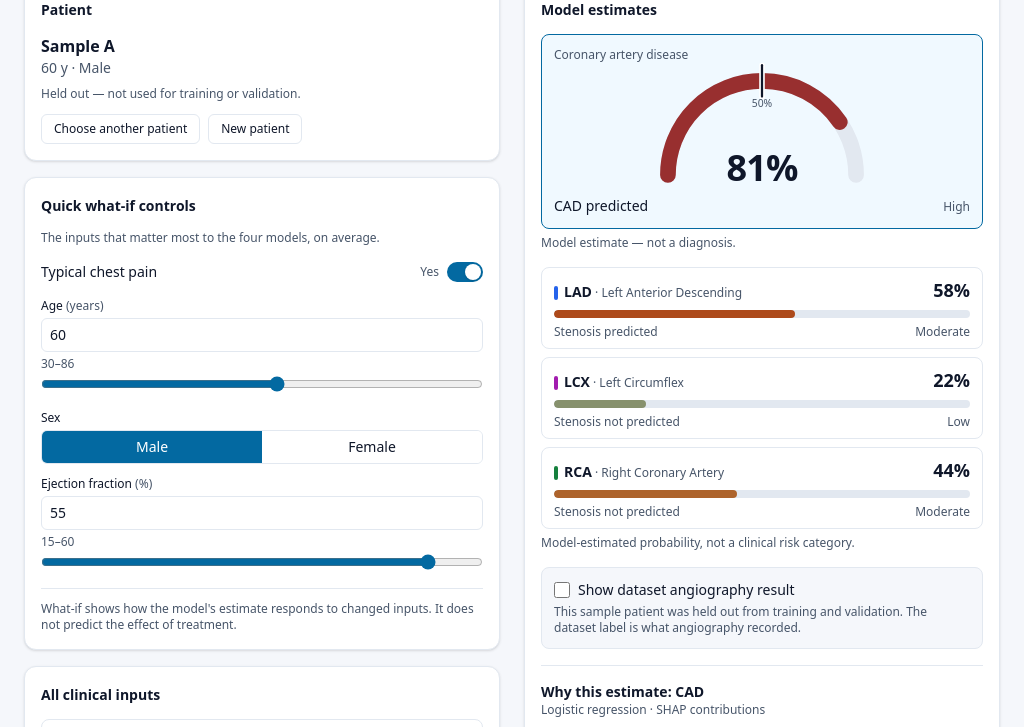
what-if explorer end to end (T8.1) › shows how every estimate changed after a quick-control edit, then resets without a request (UF-3)
This screenshot has width=1024, height=727.
(page scrolled)
Check: the button "Coronary artery disease 81% CAD predicted High" is shown, box x1=541 y1=34 x2=983 y2=229
Check: the text "Modified" is not shown
Step 1. Set the slider named "Age slider" to "72" → (368,384), box x1=41 y1=376 x2=483 y2=392
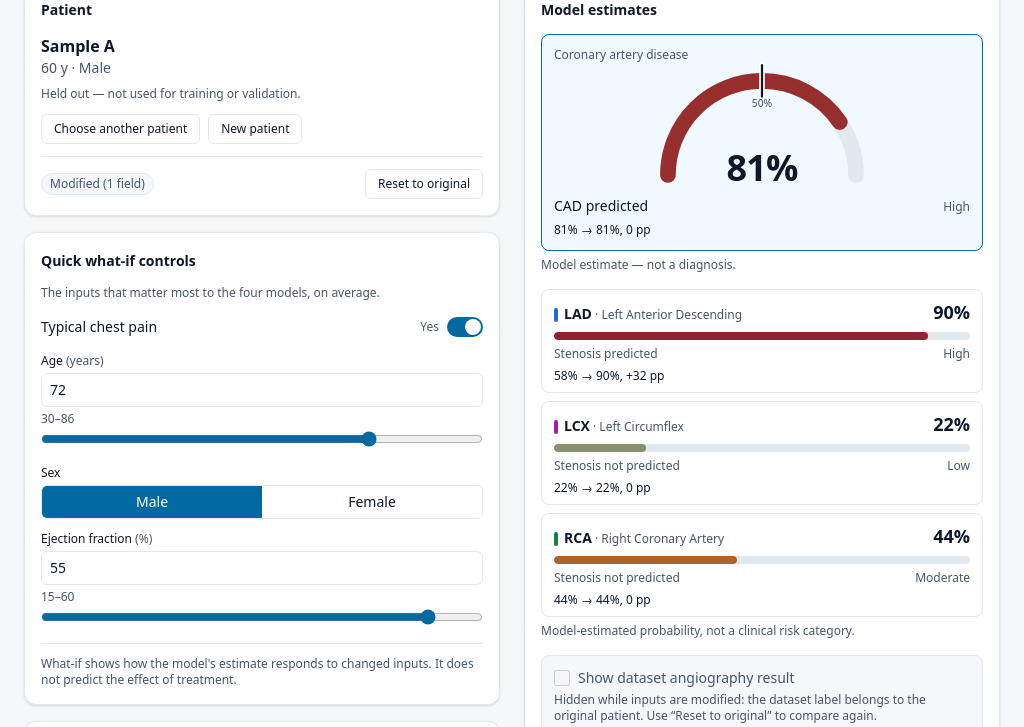
Check: the number field labelled "Age (years)" holds "72", box x1=41 y1=373 x2=483 y2=407
Check: the text "Modified (1 field)" is shown, box x1=41 y1=173 x2=154 y2=195
Check: the text "58% → 90%, +32 pp" is shown, box x1=554 y1=367 x2=664 y2=384
Step 2. Click the button "Reset to original" → (424,184), box x1=365 y1=169 x2=483 y2=199
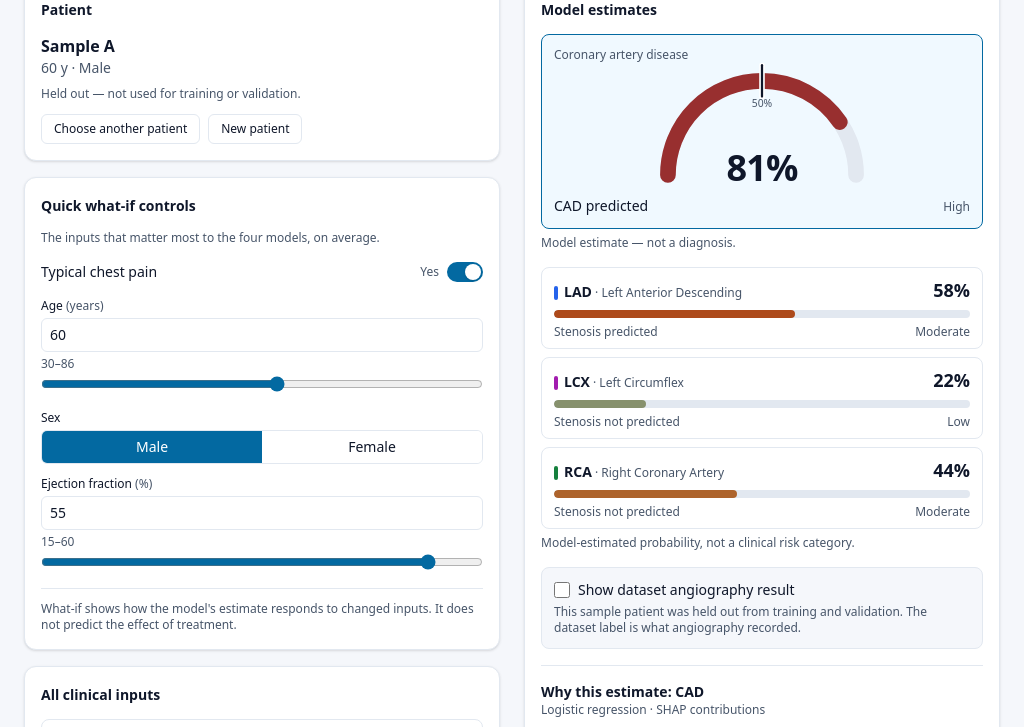
Check: the button "LAD" reads "LAD · Left Anterior Descending 58% Stenosis predicted Moderate", box x1=541 y1=267 x2=983 y2=349
Check: the text "Modified" is gone
Check: the button "Reset to original" is gone
